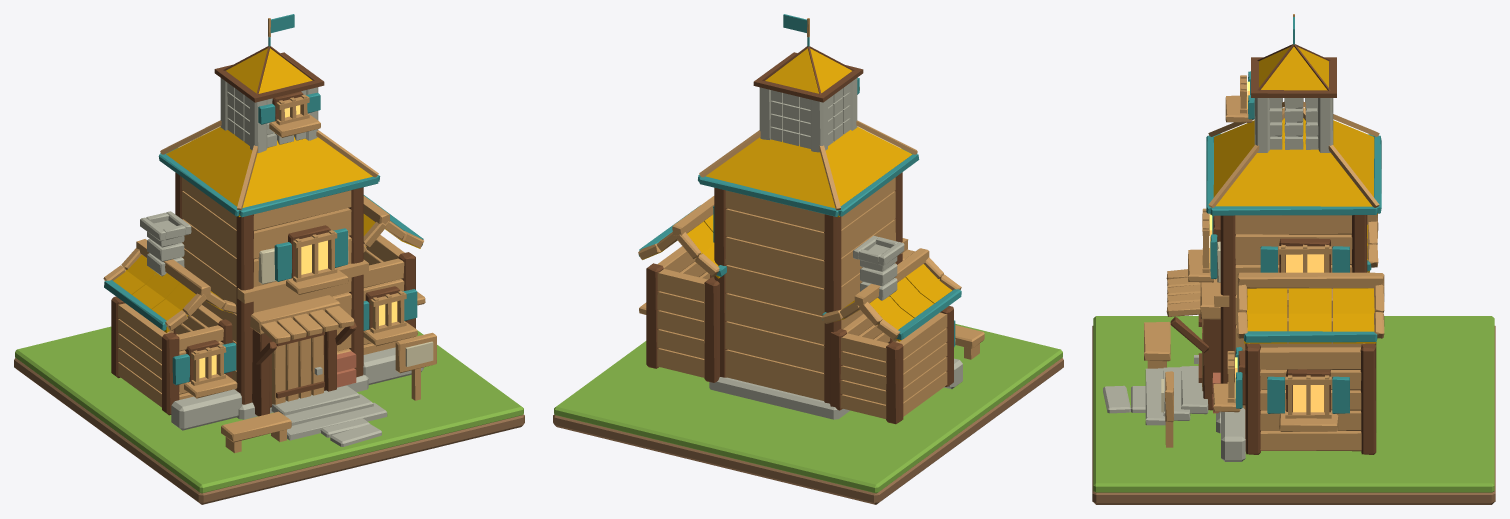
The model's file is town_hall_l06_active_LOD1.glb.
3 views of the same model, side by side, from view 1: azimuth 30°, elevation 25°; view 2: azimuth 150°, elevation 25°; view 3: azimuth 270°, elevation 25° (orthographic). The views are drawn at different scales.
Parts seen in each view (by area): view 1: town_hall_l06_active_foundation.001, town_hall_l06_active_grass_tile.001, town_hall_l06_active_earth_tile.001, town_hall_l06_active_path_stone.005; view 2: town_hall_l06_active_foundation.001, town_hall_l06_active_grass_tile.001, town_hall_l06_active_earth_tile.001; view 3: town_hall_l06_active_foundation.001, town_hall_l06_active_grass_tile.001, town_hall_l06_active_earth_tile.001, town_hall_l06_active_path_stone.005.
Boxes of the visible parts, <box> form: town_hall_l06_active_foundation.001: <box>103,14,436,453</box>; town_hall_l06_active_grass_tile.001: <box>15,326,523,493</box>; town_hall_l06_active_earth_tile.001: <box>14,358,524,504</box>; town_hall_l06_active_path_stone.005: <box>330,424,381,446</box>; town_hall_l06_active_foundation.001: <box>638,14,984,424</box>; town_hall_l06_active_grass_tile.001: <box>554,324,1062,493</box>; town_hall_l06_active_earth_tile.001: <box>553,358,1063,504</box>; town_hall_l06_active_foundation.001: <box>1144,14,1384,461</box>; town_hall_l06_active_grass_tile.001: <box>1093,316,1494,492</box>; town_hall_l06_active_earth_tile.001: <box>1092,326,1495,504</box>; town_hall_l06_active_path_stone.005: <box>1103,385,1130,413</box>.
Size of the model in its own units: 3.6 by 4.01 by 3.6.
